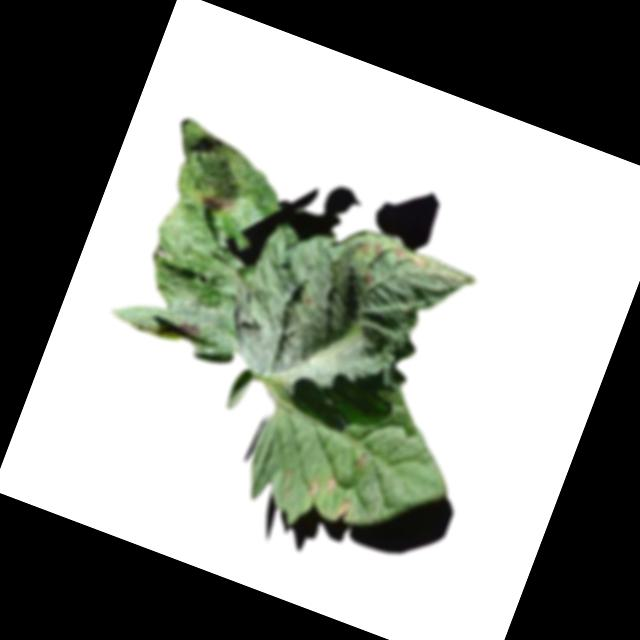Early_blight: (196, 184, 238, 216), (177, 315, 209, 341), (332, 495, 354, 525), (353, 451, 371, 473), (360, 270, 378, 288), (304, 478, 321, 496), (322, 474, 337, 494), (357, 237, 373, 255), (392, 245, 407, 261), (371, 240, 385, 257)
